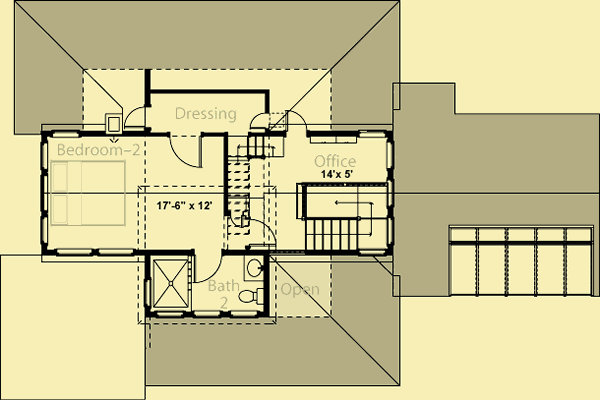bed: (47, 160, 128, 231)
door: (169, 130, 204, 170), (191, 252, 224, 285), (280, 108, 307, 134), (120, 104, 145, 129), (246, 110, 268, 132)
large_sink: (233, 284, 264, 307)
small_sink: (240, 256, 263, 282)
stairs: (299, 218, 390, 251), (227, 135, 286, 162)
window: (153, 309, 258, 320), (39, 139, 49, 243), (54, 247, 134, 259), (384, 139, 396, 174)
